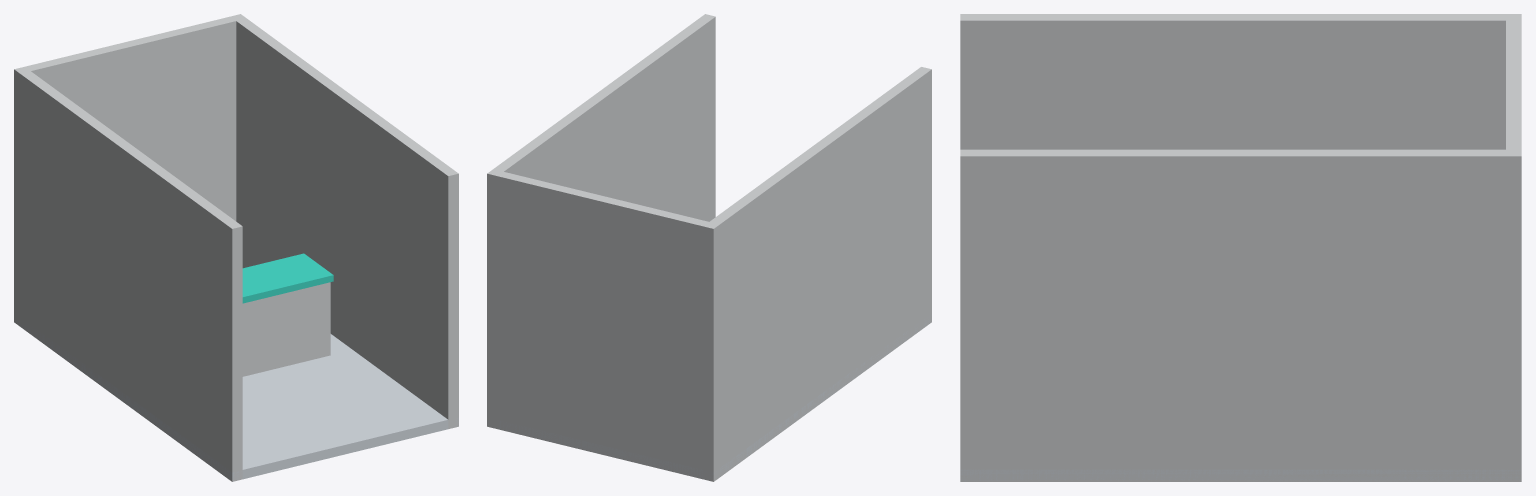
The picture shows the model from 3 angles, left to right: view 1: azimuth 30°, elevation 25°; view 2: azimuth 150°, elevation 25°; view 3: azimuth 270°, elevation 25°; orthographic projection. The views are drawn at different scales.
Visible parts, largest first — view 1: Exhibition Booth Concept; view 2: Exhibition Booth Concept; view 3: Exhibition Booth Concept.
Part boxes in pixels (x1,y1,x2,y2): Exhibition Booth Concept: (14,14,458,481); Exhibition Booth Concept: (487,14,931,481); Exhibition Booth Concept: (960,14,1521,481).
Size of the model in its own units: 3 by 3.2 by 5.
